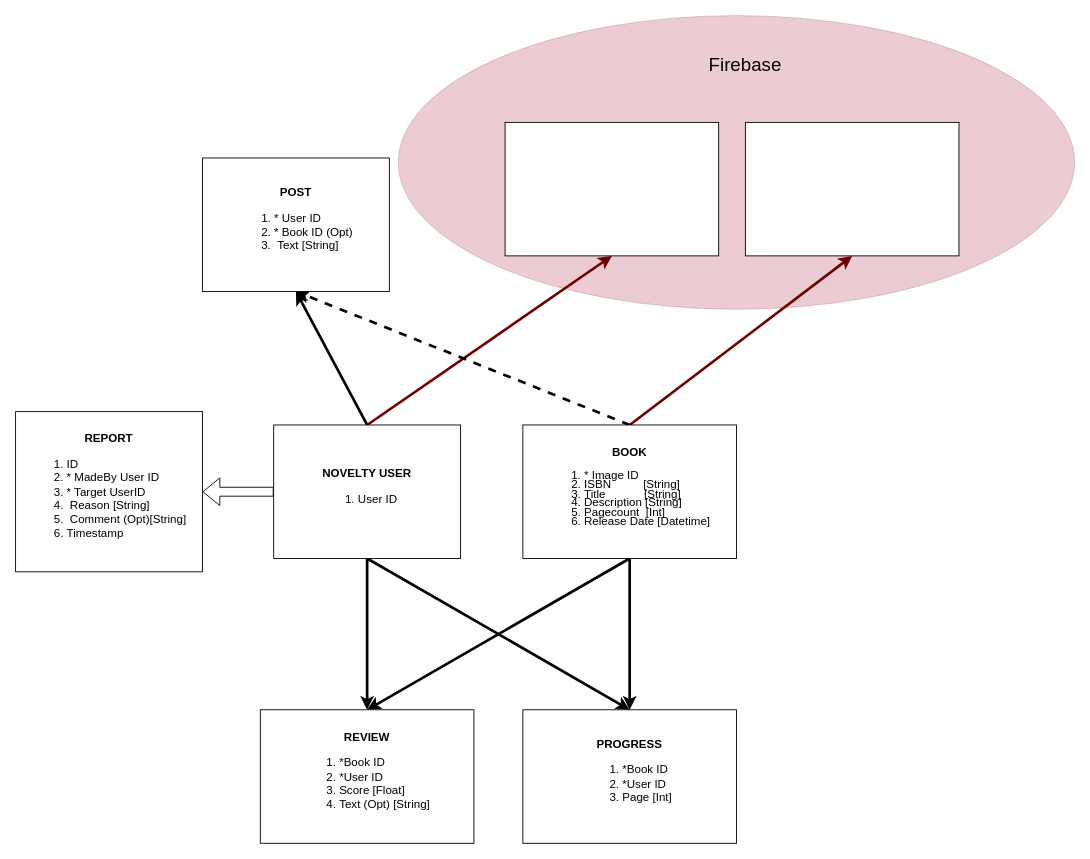
Some shapes in this 1090 by 859 pixel diagram are drawn without their labels. The shapes that lost their labels are listed below. From the top down, each one's centre as x and y in pixels, then its label:
At (x=611, y=188): "USER User ID Email [String] Name [String] Date of Birth [Datetime]".
At (x=851, y=188): "IMAGE Image ID [String] Image [Blob]".
